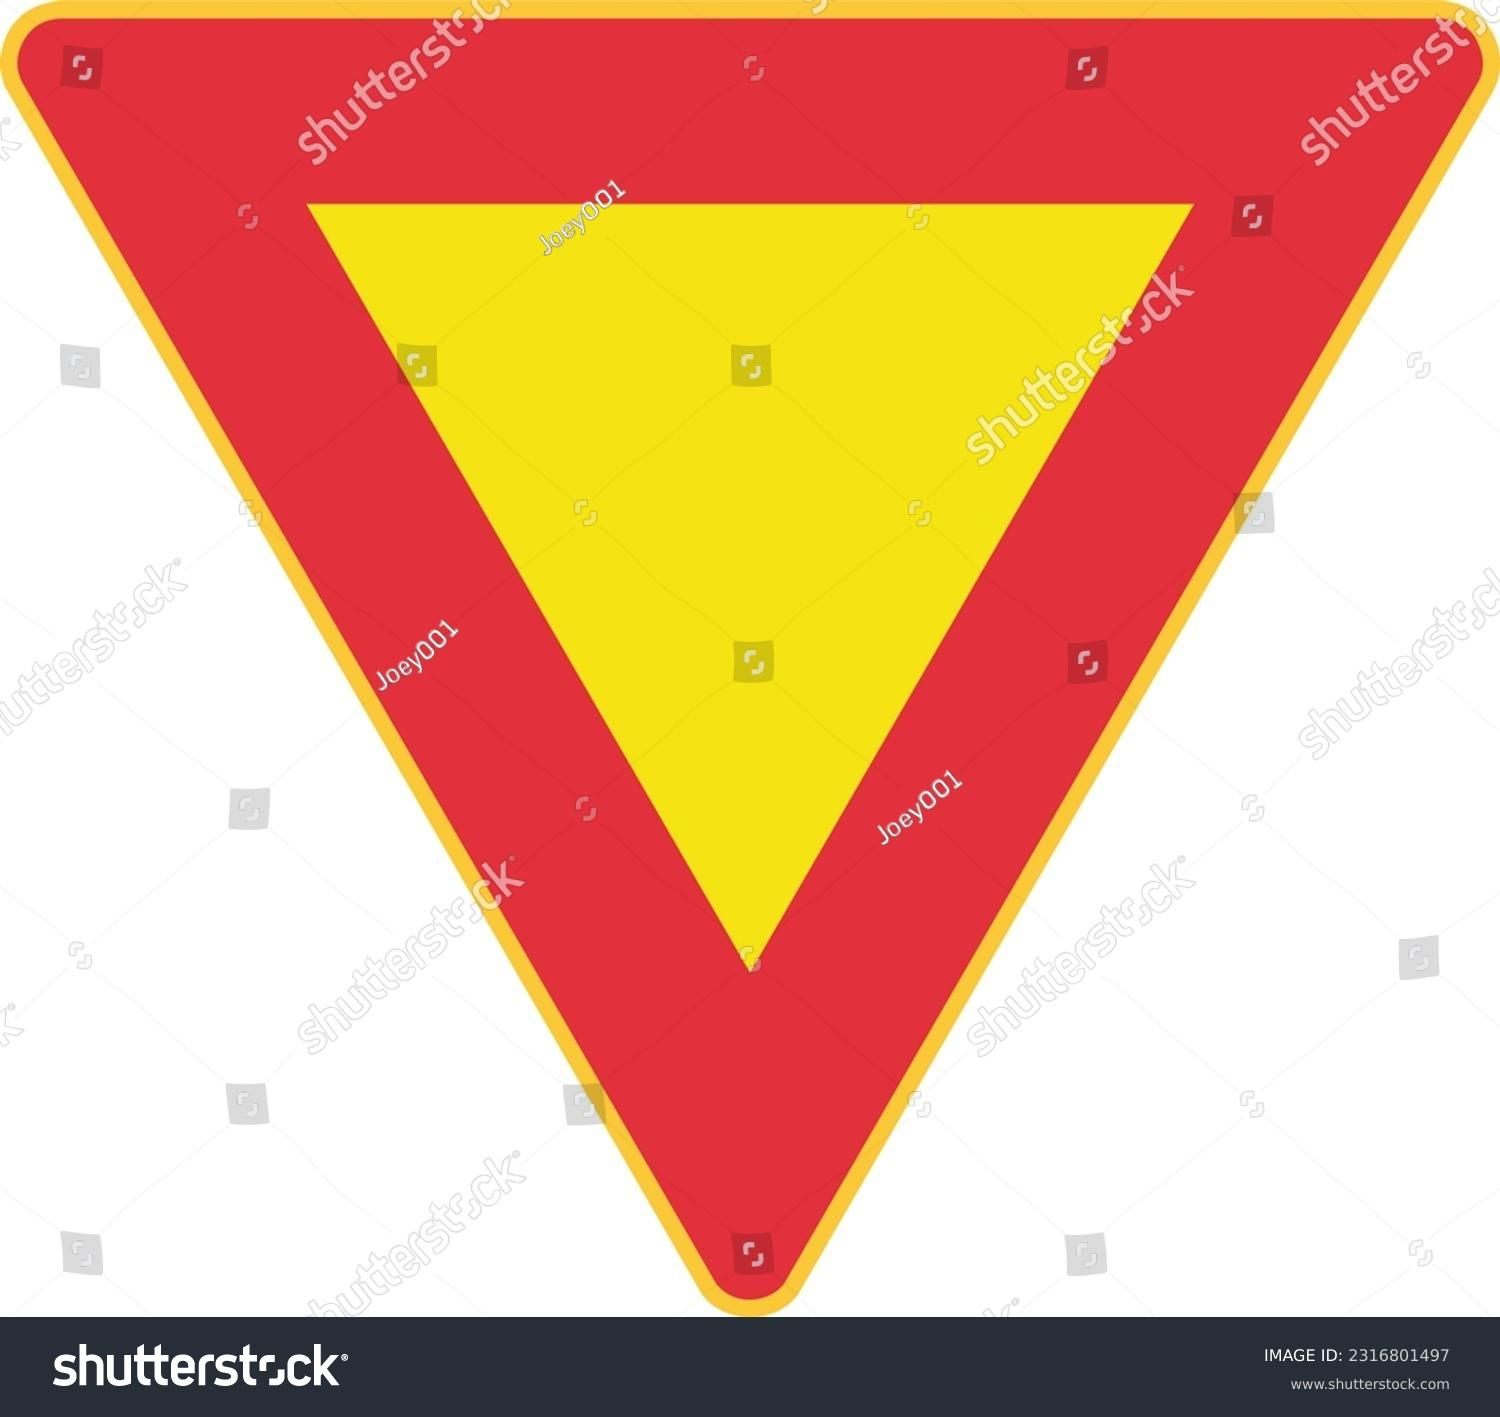Give Way: (41, 4, 1500, 1282)
